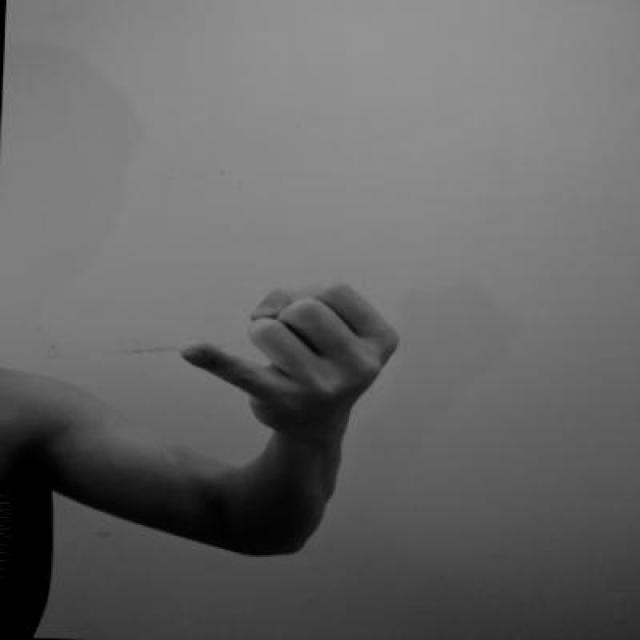J: (170, 264, 416, 446)
